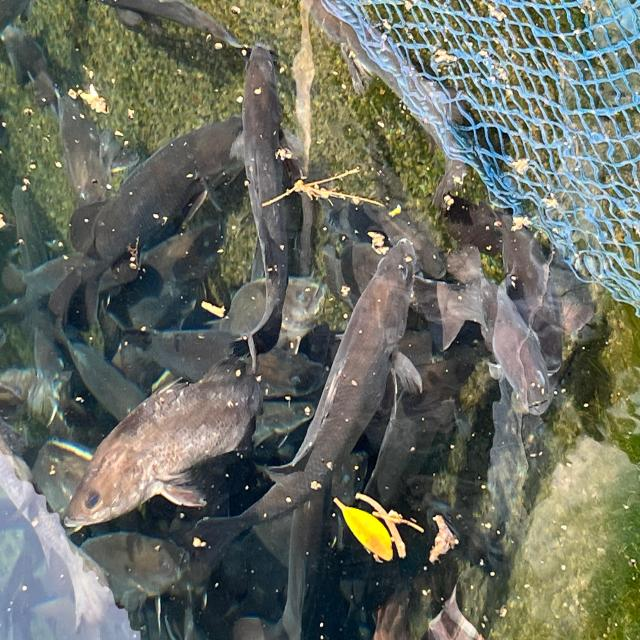ikan: (190, 235, 424, 558), (47, 113, 246, 330), (61, 351, 264, 535)
